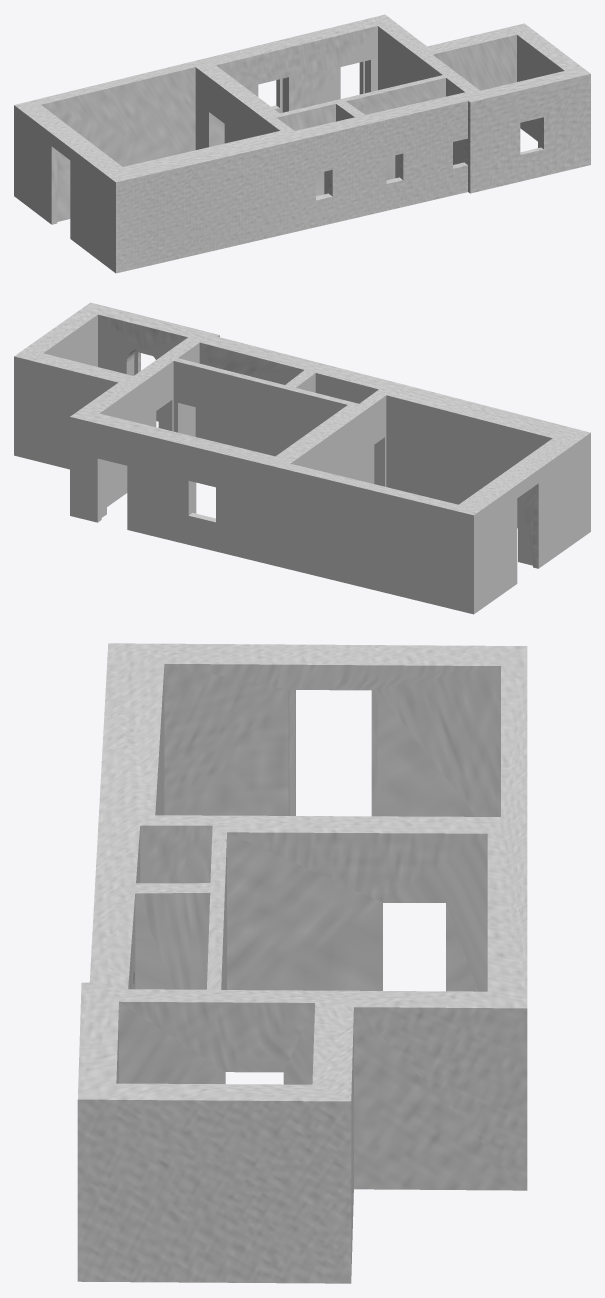
Rendered from pareti.glb.
3 renders of one model, top to bottom at view 1: azimuth 30°, elevation 25°; view 2: azimuth 150°, elevation 25°; view 3: azimuth 270°, elevation 25°, orthographic. The views are drawn at different scales.
Parts seen in each view (by area): view 1: Pareti; view 2: Pareti; view 3: Pareti.
Boxes of the visible parts, left/top/right/bottom form: Pareti: left=14, top=14, right=590, bottom=273; Pareti: left=14, top=302, right=590, bottom=614; Pareti: left=77, top=643, right=527, bottom=1283.
Size of the model in its own units: 18.34 by 3.4 by 7.6.
1 material, 1 textured.
